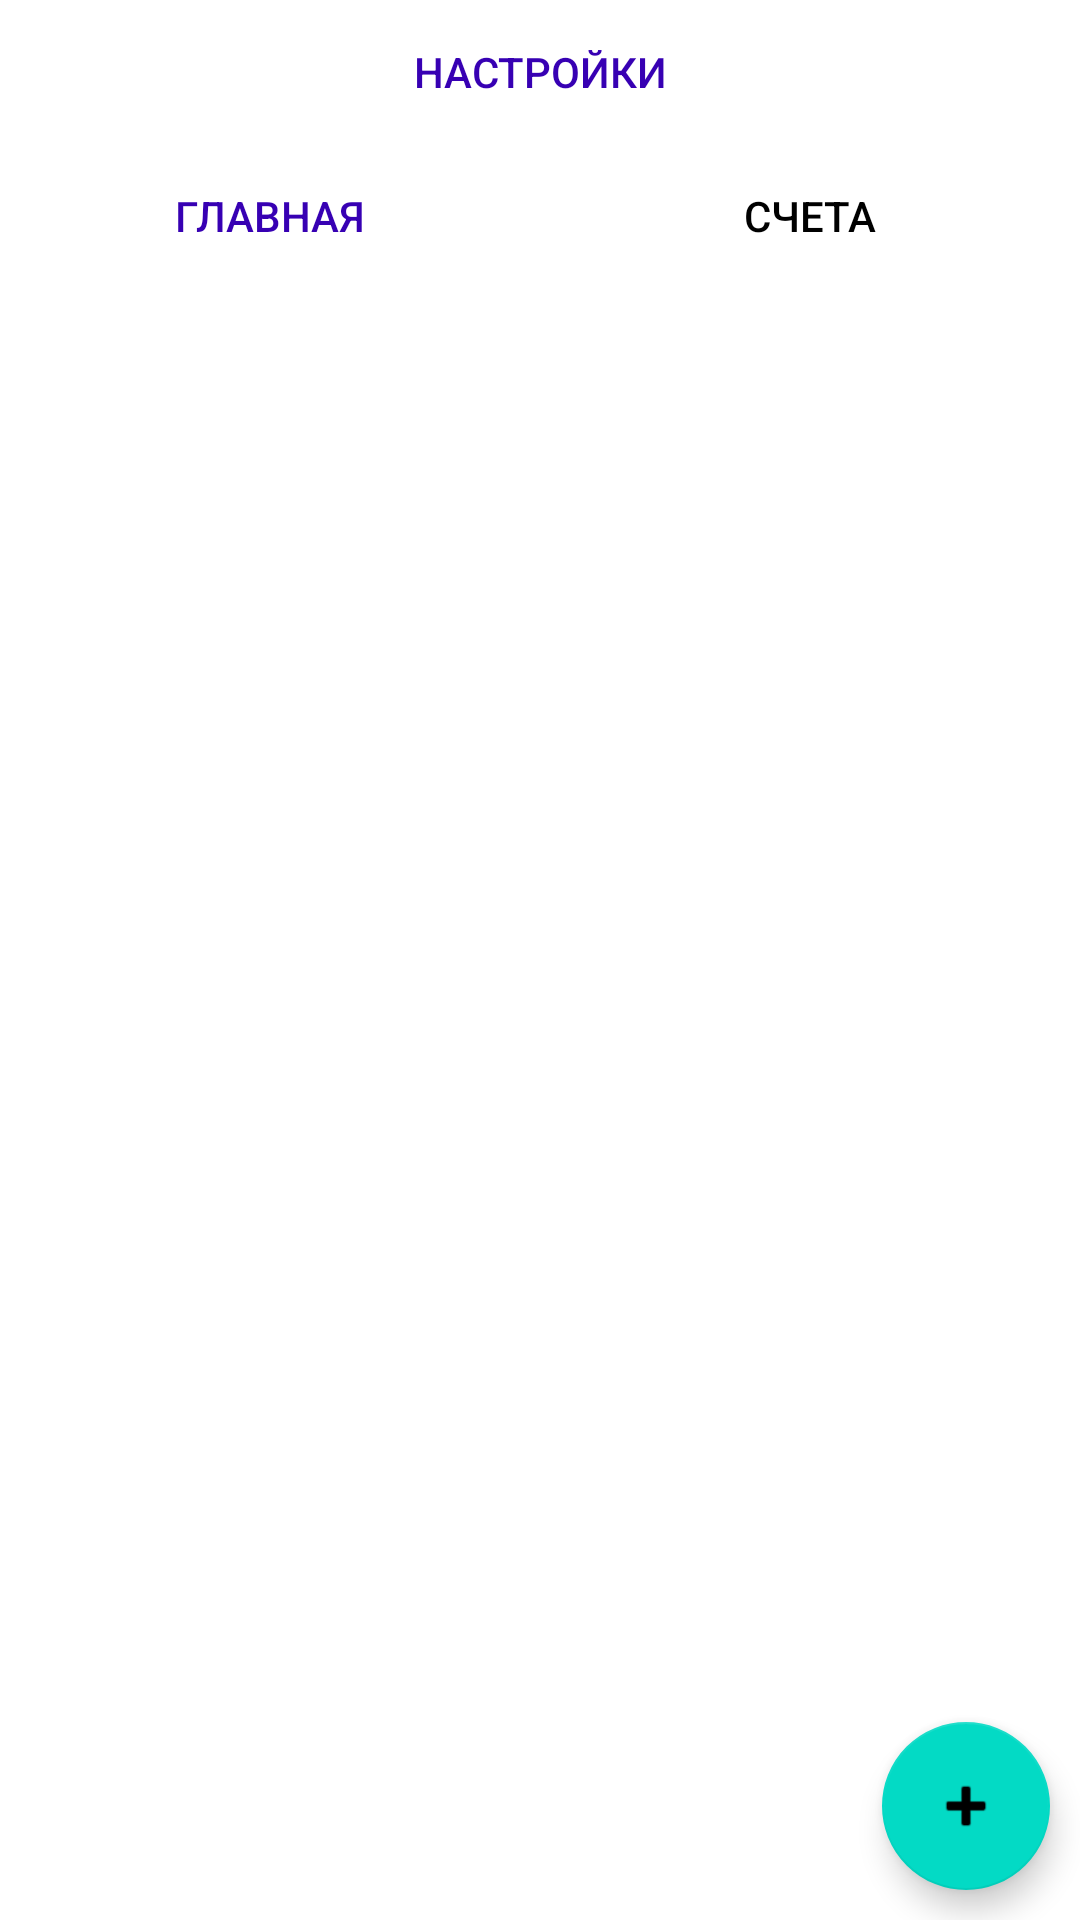

Locate icon controls on the screen. Image size 1080x1920, boxes as (x1, y1, x2, y2).
Добавление новой записи: (882, 1722, 1050, 1890)
